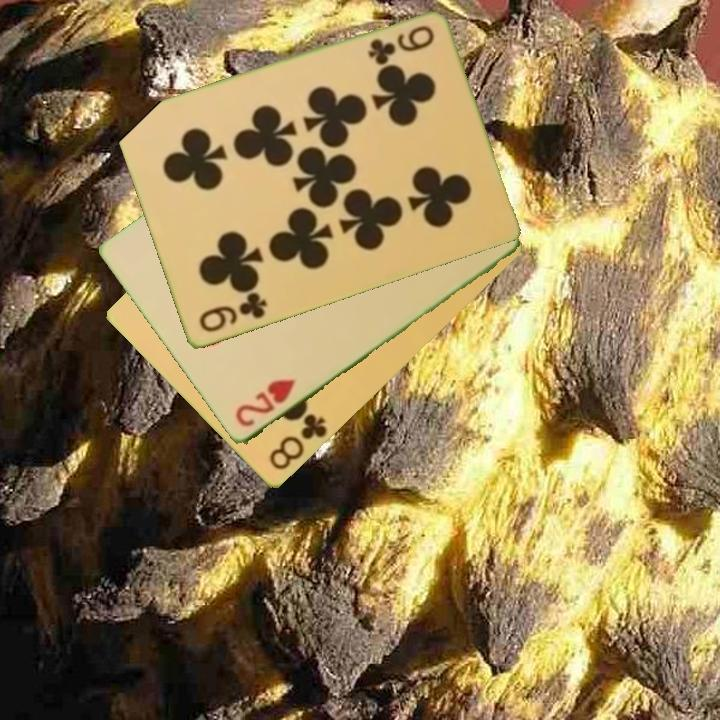2h: (231, 375, 299, 431)
8c: (265, 410, 331, 474)
9c: (195, 289, 270, 336), (364, 22, 437, 67)
